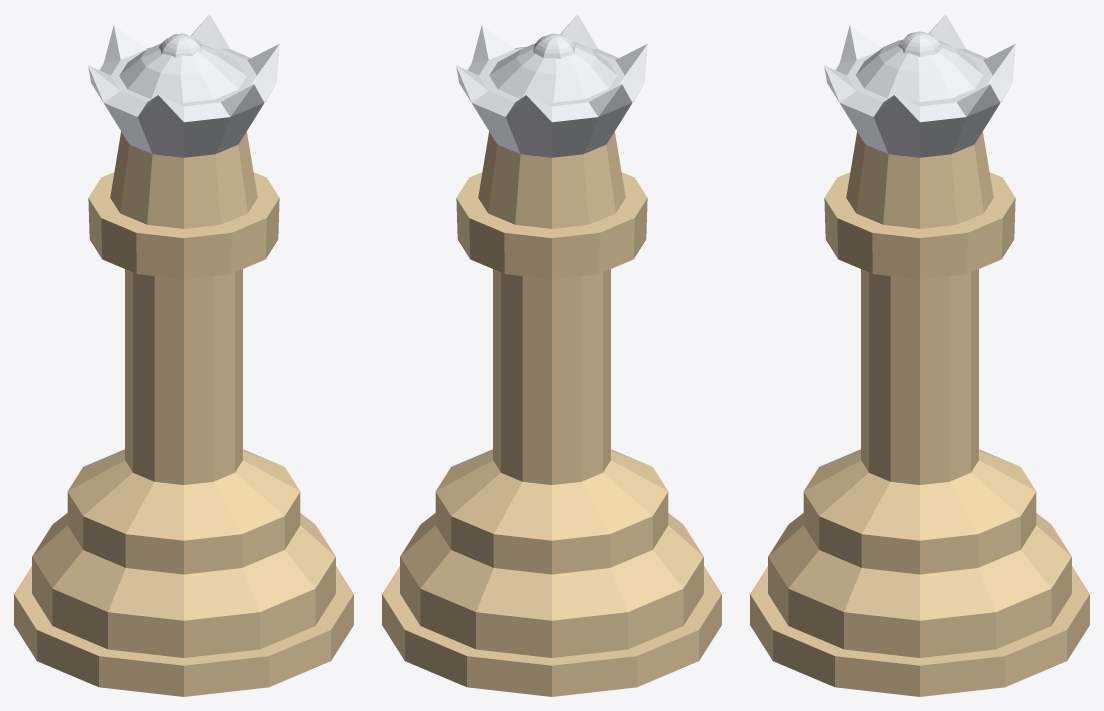
Rendered from lowpoly_q_w.glb.
The picture shows the model from 3 angles, left to right: view 1: azimuth 30°, elevation 25°; view 2: azimuth 150°, elevation 25°; view 3: azimuth 270°, elevation 25°; orthographic projection.
Parts seen in each view (by area): view 1: x; view 2: x; view 3: x.
Boxes of the visible parts, box(x1,y1,x2,y2) form: x: box(14, 14, 353, 696); x: box(382, 14, 721, 696); x: box(750, 14, 1089, 696).
Bounding box in the file's own units: 0.4698 × 0.9 × 0.4698.
